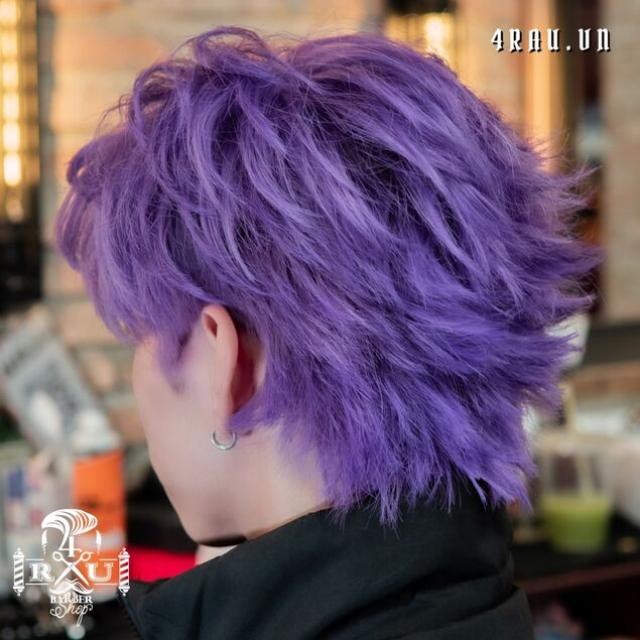Nonhelmet: (52, 24, 604, 539)
